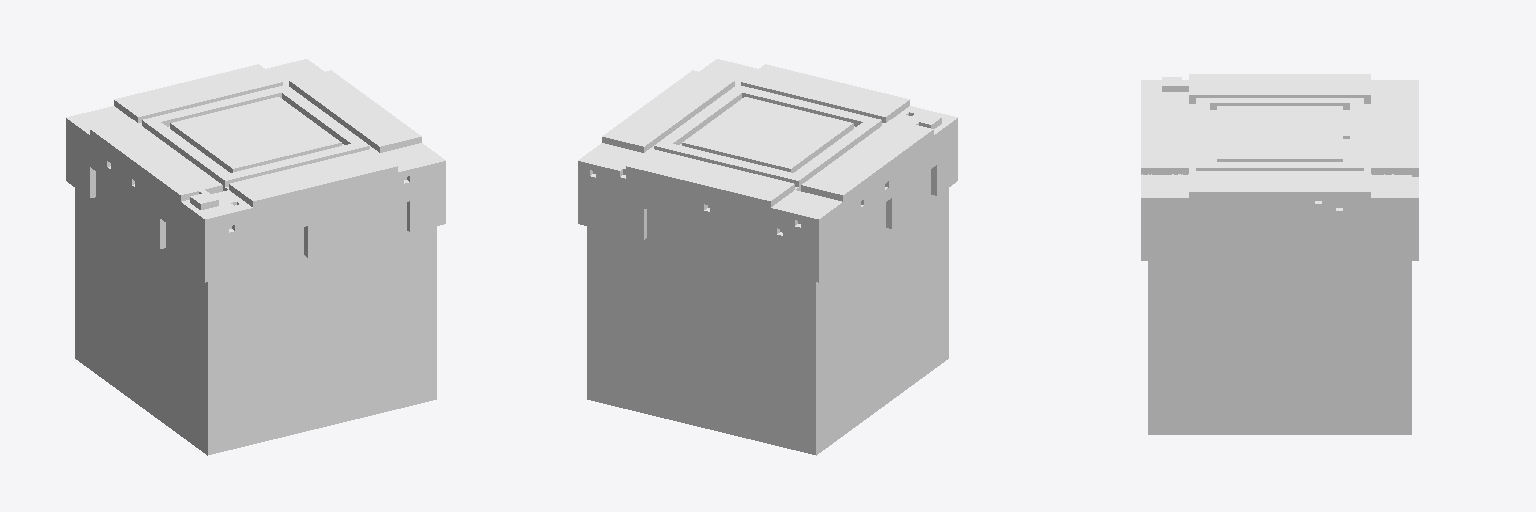
File: tile_base_road_cross.obj
3 renders of one model, left to right at view 1: azimuth 30°, elevation 25°; view 2: azimuth 150°, elevation 25°; view 3: azimuth 270°, elevation 25°, orthographic.
Visible parts, largest first — view 1: tile_base_road_cross; view 2: tile_base_road_cross; view 3: tile_base_road_cross.
Boxes of the visible parts, x1,y1,x2,y2 form: tile_base_road_cross: [66, 59, 445, 455]; tile_base_road_cross: [578, 59, 957, 455]; tile_base_road_cross: [1141, 74, 1418, 434].
Size of the model in its own units: 40 by 39 by 40.